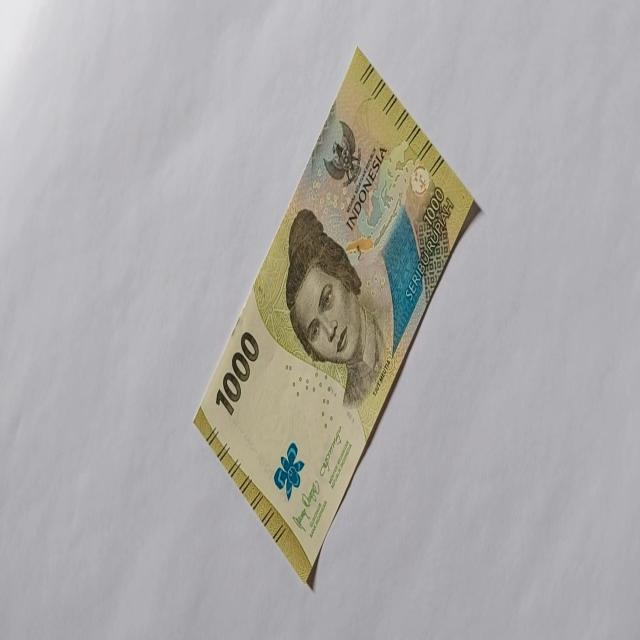seribu rupiah kertas: (192, 44, 482, 586)
